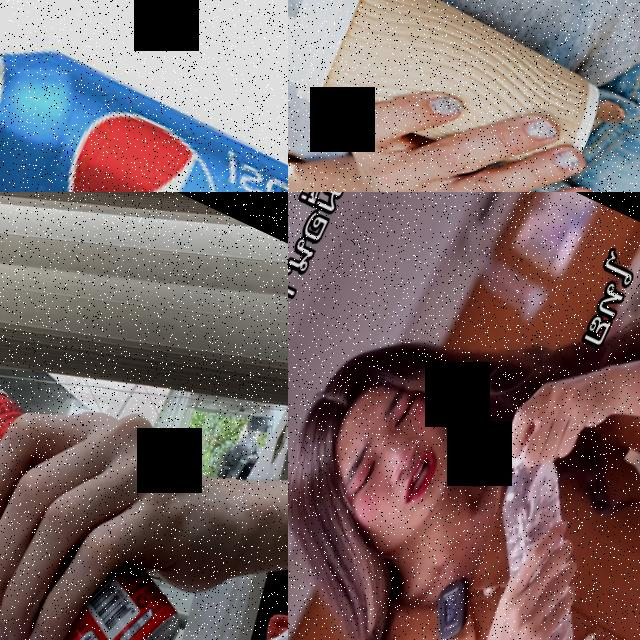bottle: (424, 436, 640, 640)
can: (0, 368, 240, 640), (0, 2, 288, 192)
cup: (288, 0, 623, 192)
